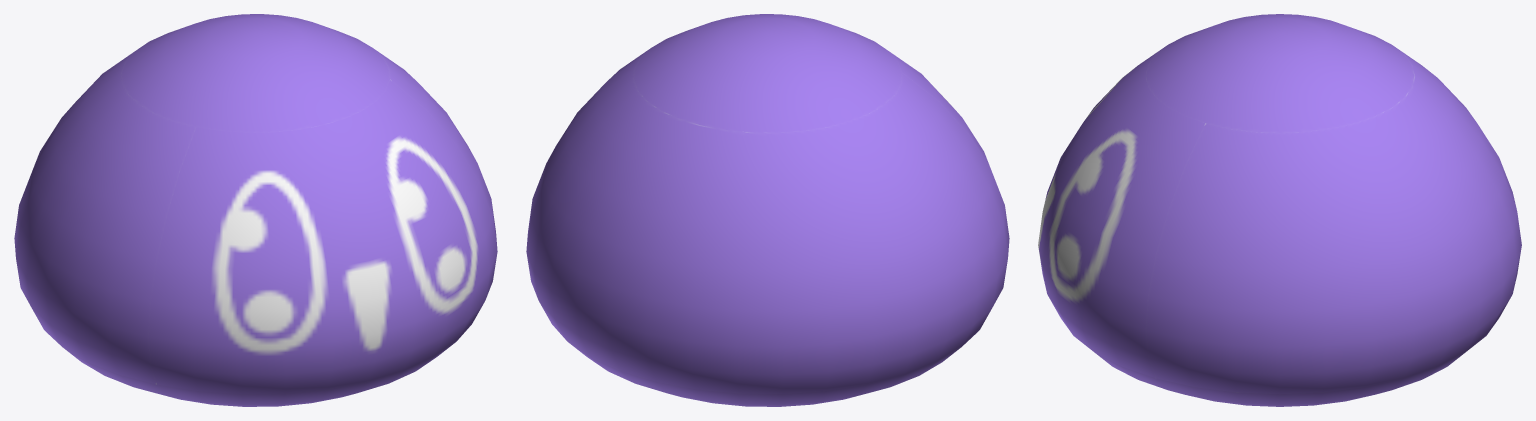
The model's file is slime.fbx.
3 views of the same model, side by side, from view 1: azimuth 30°, elevation 25°; view 2: azimuth 150°, elevation 25°; view 3: azimuth 270°, elevation 25° (orthographic).
Parts seen in each view (by area): view 1: slime_Model; view 2: slime_Model; view 3: slime_Model.
Boxes of the visible parts, x1,y1,x2,y2 form: slime_Model: (14,14,497,406); slime_Model: (526,14,1009,406); slime_Model: (1038,14,1521,406).
Size of the model in its own units: 49.42 by 36.48 by 49.42.
1 material, 1 textured.
